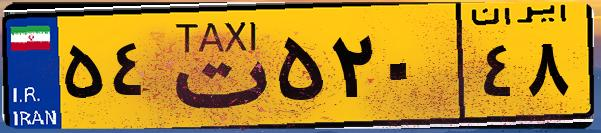0: (385, 28, 445, 110)
2: (330, 28, 385, 110)
4: (475, 38, 525, 113), (110, 28, 158, 98)
5: (270, 28, 330, 110), (57, 26, 110, 100)
8: (525, 38, 570, 115)
ت: (158, 12, 270, 120)
